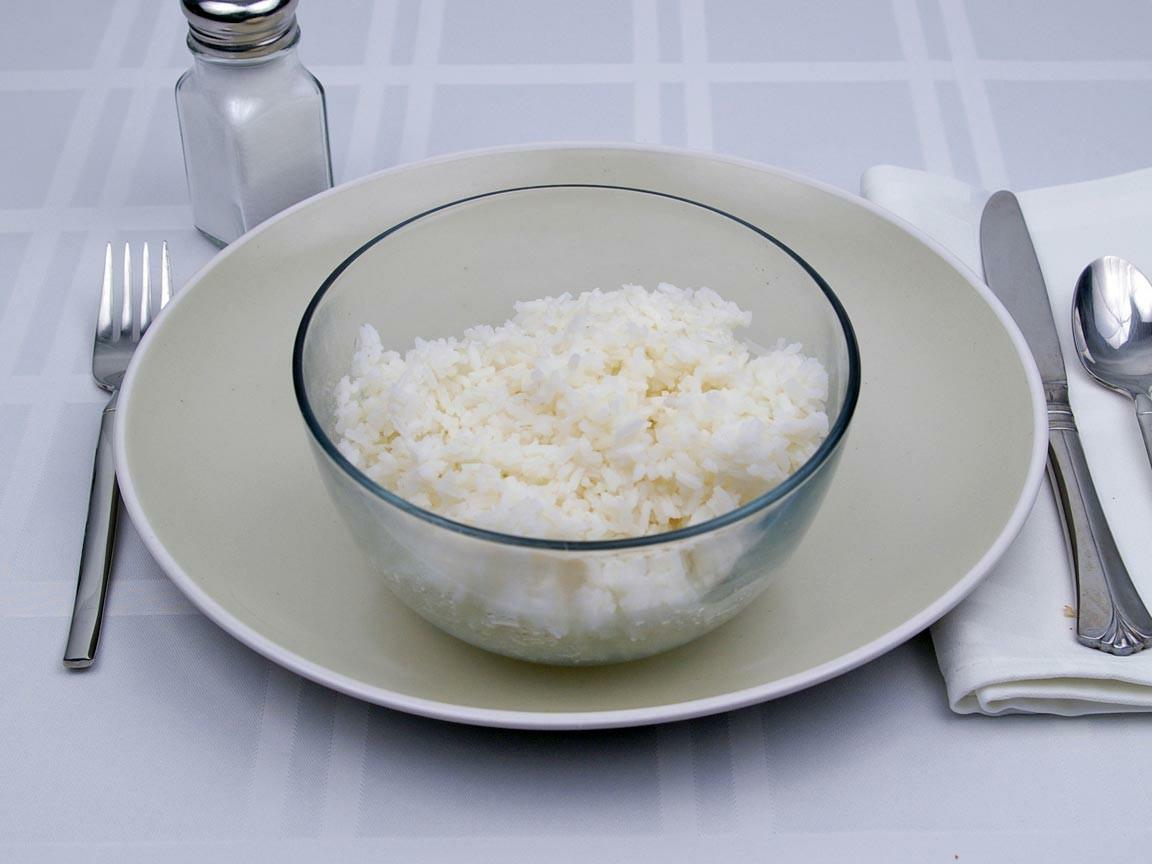WhiteRice: (331, 283, 832, 547)
